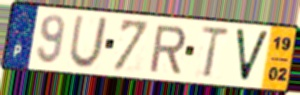7: (114, 17, 153, 74)
9: (35, 14, 67, 66)
R: (147, 24, 188, 75)
T: (199, 25, 231, 80)
U: (67, 14, 110, 70)
V: (233, 26, 272, 85)
